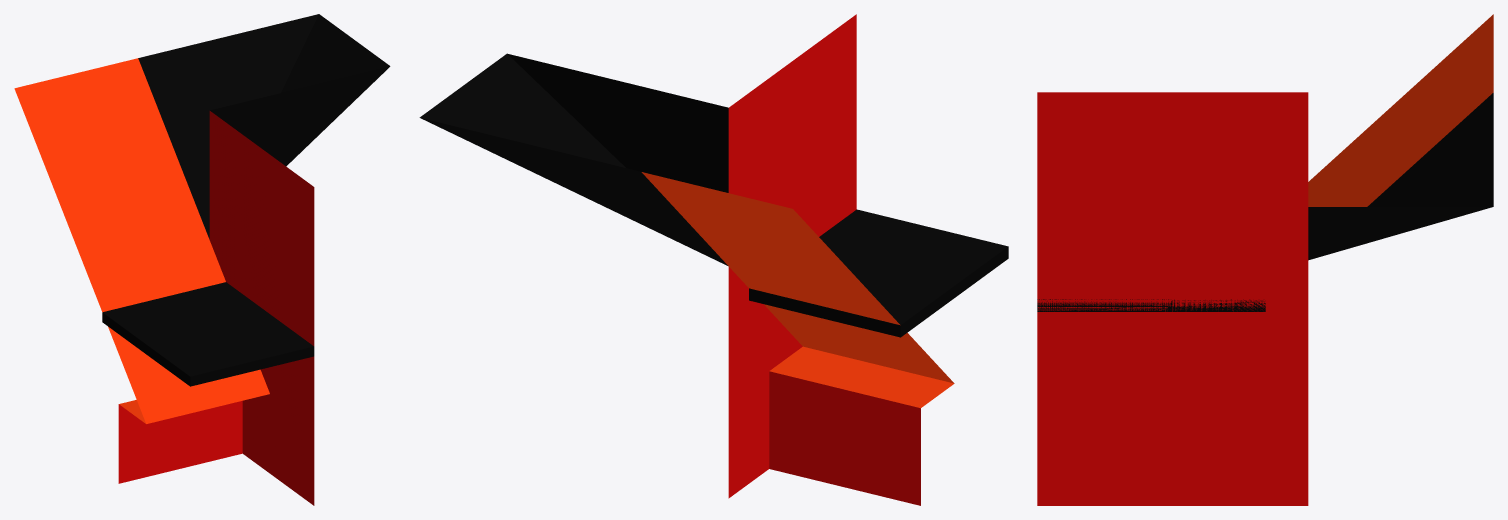
3 renders of one model, left to right at view 1: azimuth 30°, elevation 25°; view 2: azimuth 150°, elevation 25°; view 3: azimuth 270°, elevation 25°, orthographic. The views are drawn at different scales.
Visible parts, largest first — view 1: None_S_A_E_A_S_P_E_E_None; view 2: None_S_A_E_A_S_P_E_E_None; view 3: None_S_A_E_A_S_P_E_E_None.
Boxes of the visible parts, <box> form: None_S_A_E_A_S_P_E_E_None: <box>14,14,390,505</box>; None_S_A_E_A_S_P_E_E_None: <box>419,14,1008,505</box>; None_S_A_E_A_S_P_E_E_None: <box>1037,14,1493,505</box>.
Bounding box in the file's own units: 100 × 100 × 100.
